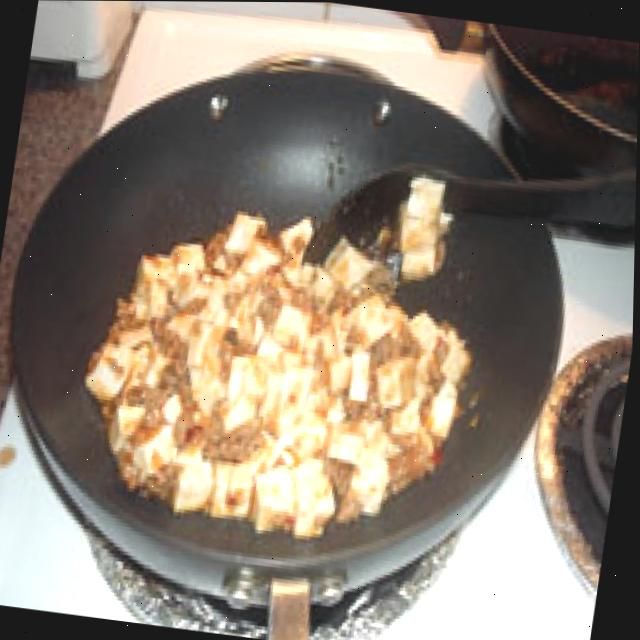豆腐料理: (0, 16, 579, 581)
